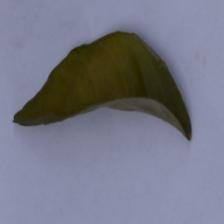greening: (11, 17, 132, 128)
